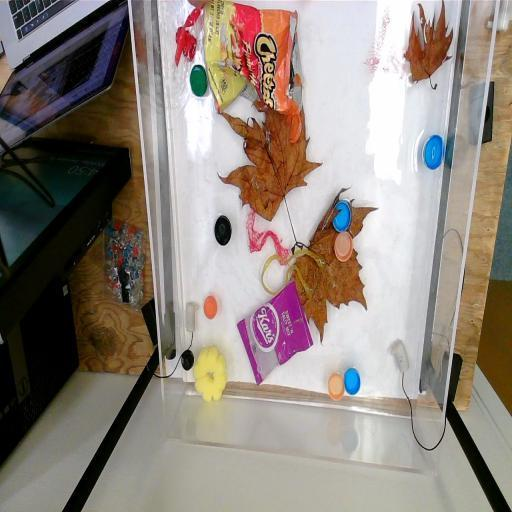Bottle Cap: (418, 130, 446, 174), (330, 194, 354, 230), (186, 64, 209, 100), (333, 231, 354, 264), (213, 214, 233, 248), (344, 364, 362, 398), (325, 372, 344, 402), (177, 346, 196, 372), (203, 295, 218, 319)
Cone Cap: (174, 25, 198, 60)
Leaf: (294, 190, 376, 344), (219, 107, 322, 227), (399, 0, 456, 97)
Netting: (362, 8, 405, 86), (245, 209, 294, 266)
Plastic Bag: (202, 0, 303, 116), (237, 285, 313, 382)
Plastic Strand: (260, 242, 326, 294), (176, 0, 201, 69)
Sponge: (194, 342, 229, 404)
